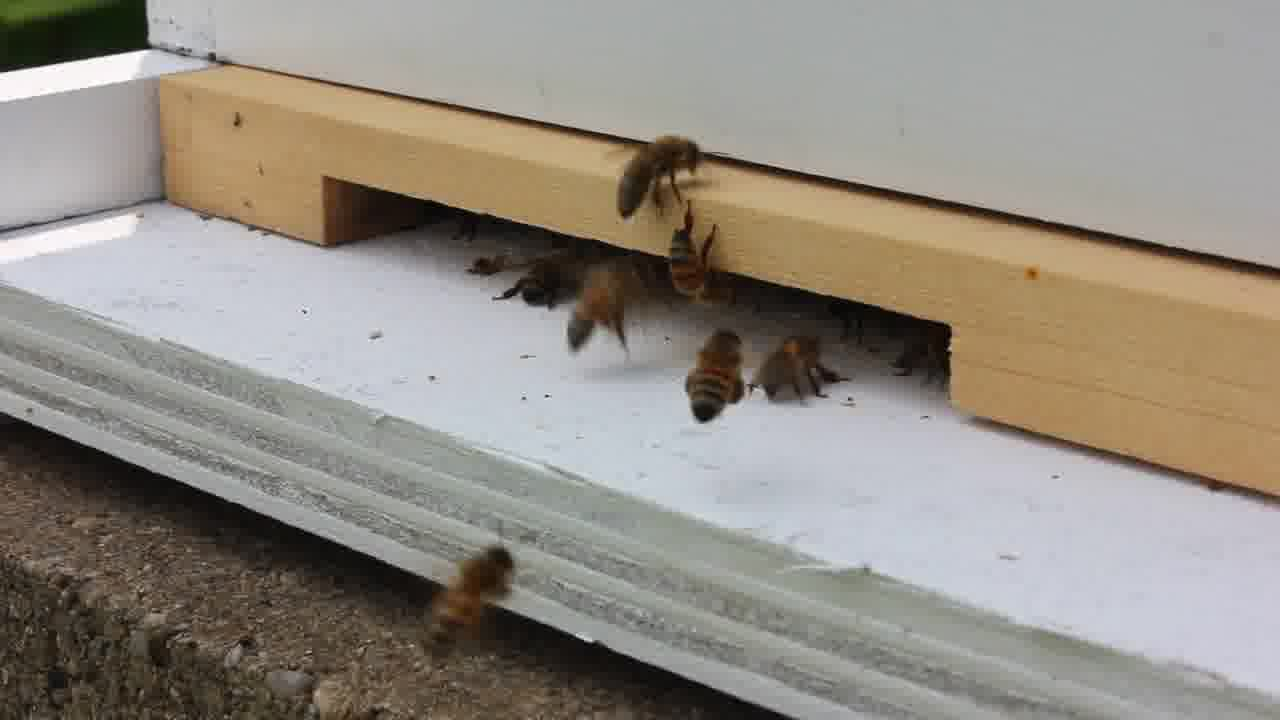pollen: (681, 326, 751, 429)
